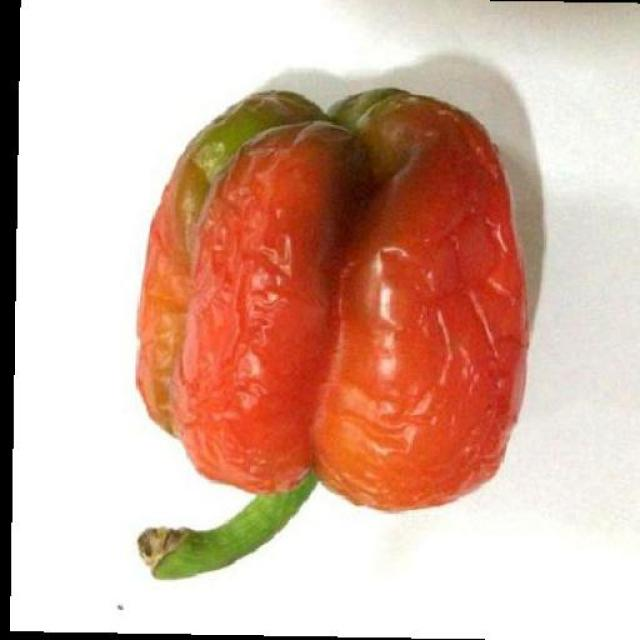Stale_Capsicum: (90, 70, 523, 596)
